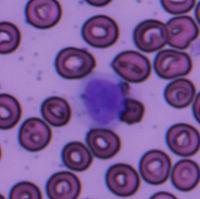L: (79, 72, 125, 127)
